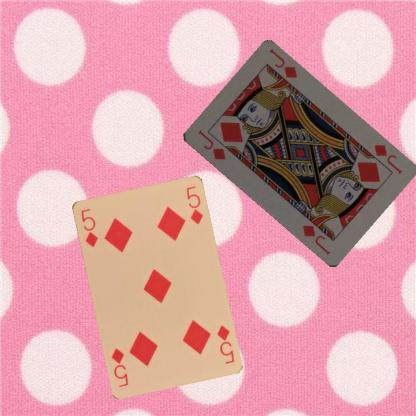5d: (78, 206, 99, 248), (214, 322, 235, 364)
Jd: (370, 141, 404, 175), (196, 127, 226, 162)
